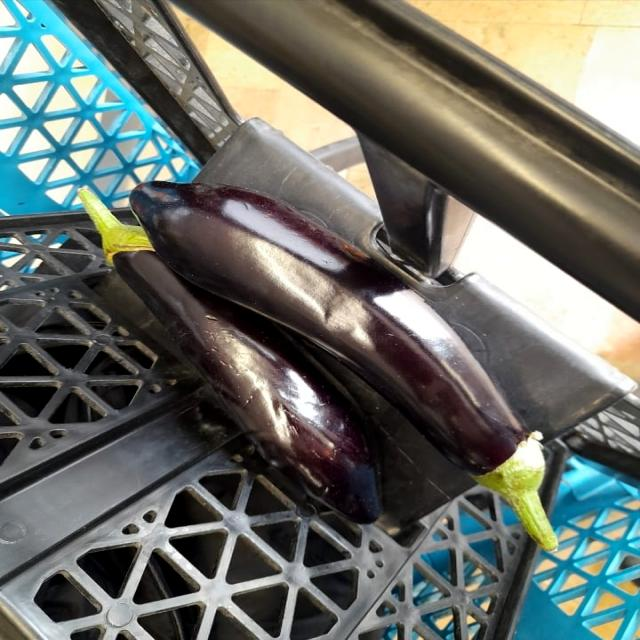eggplant: (132, 158, 565, 554), (79, 188, 394, 528)
